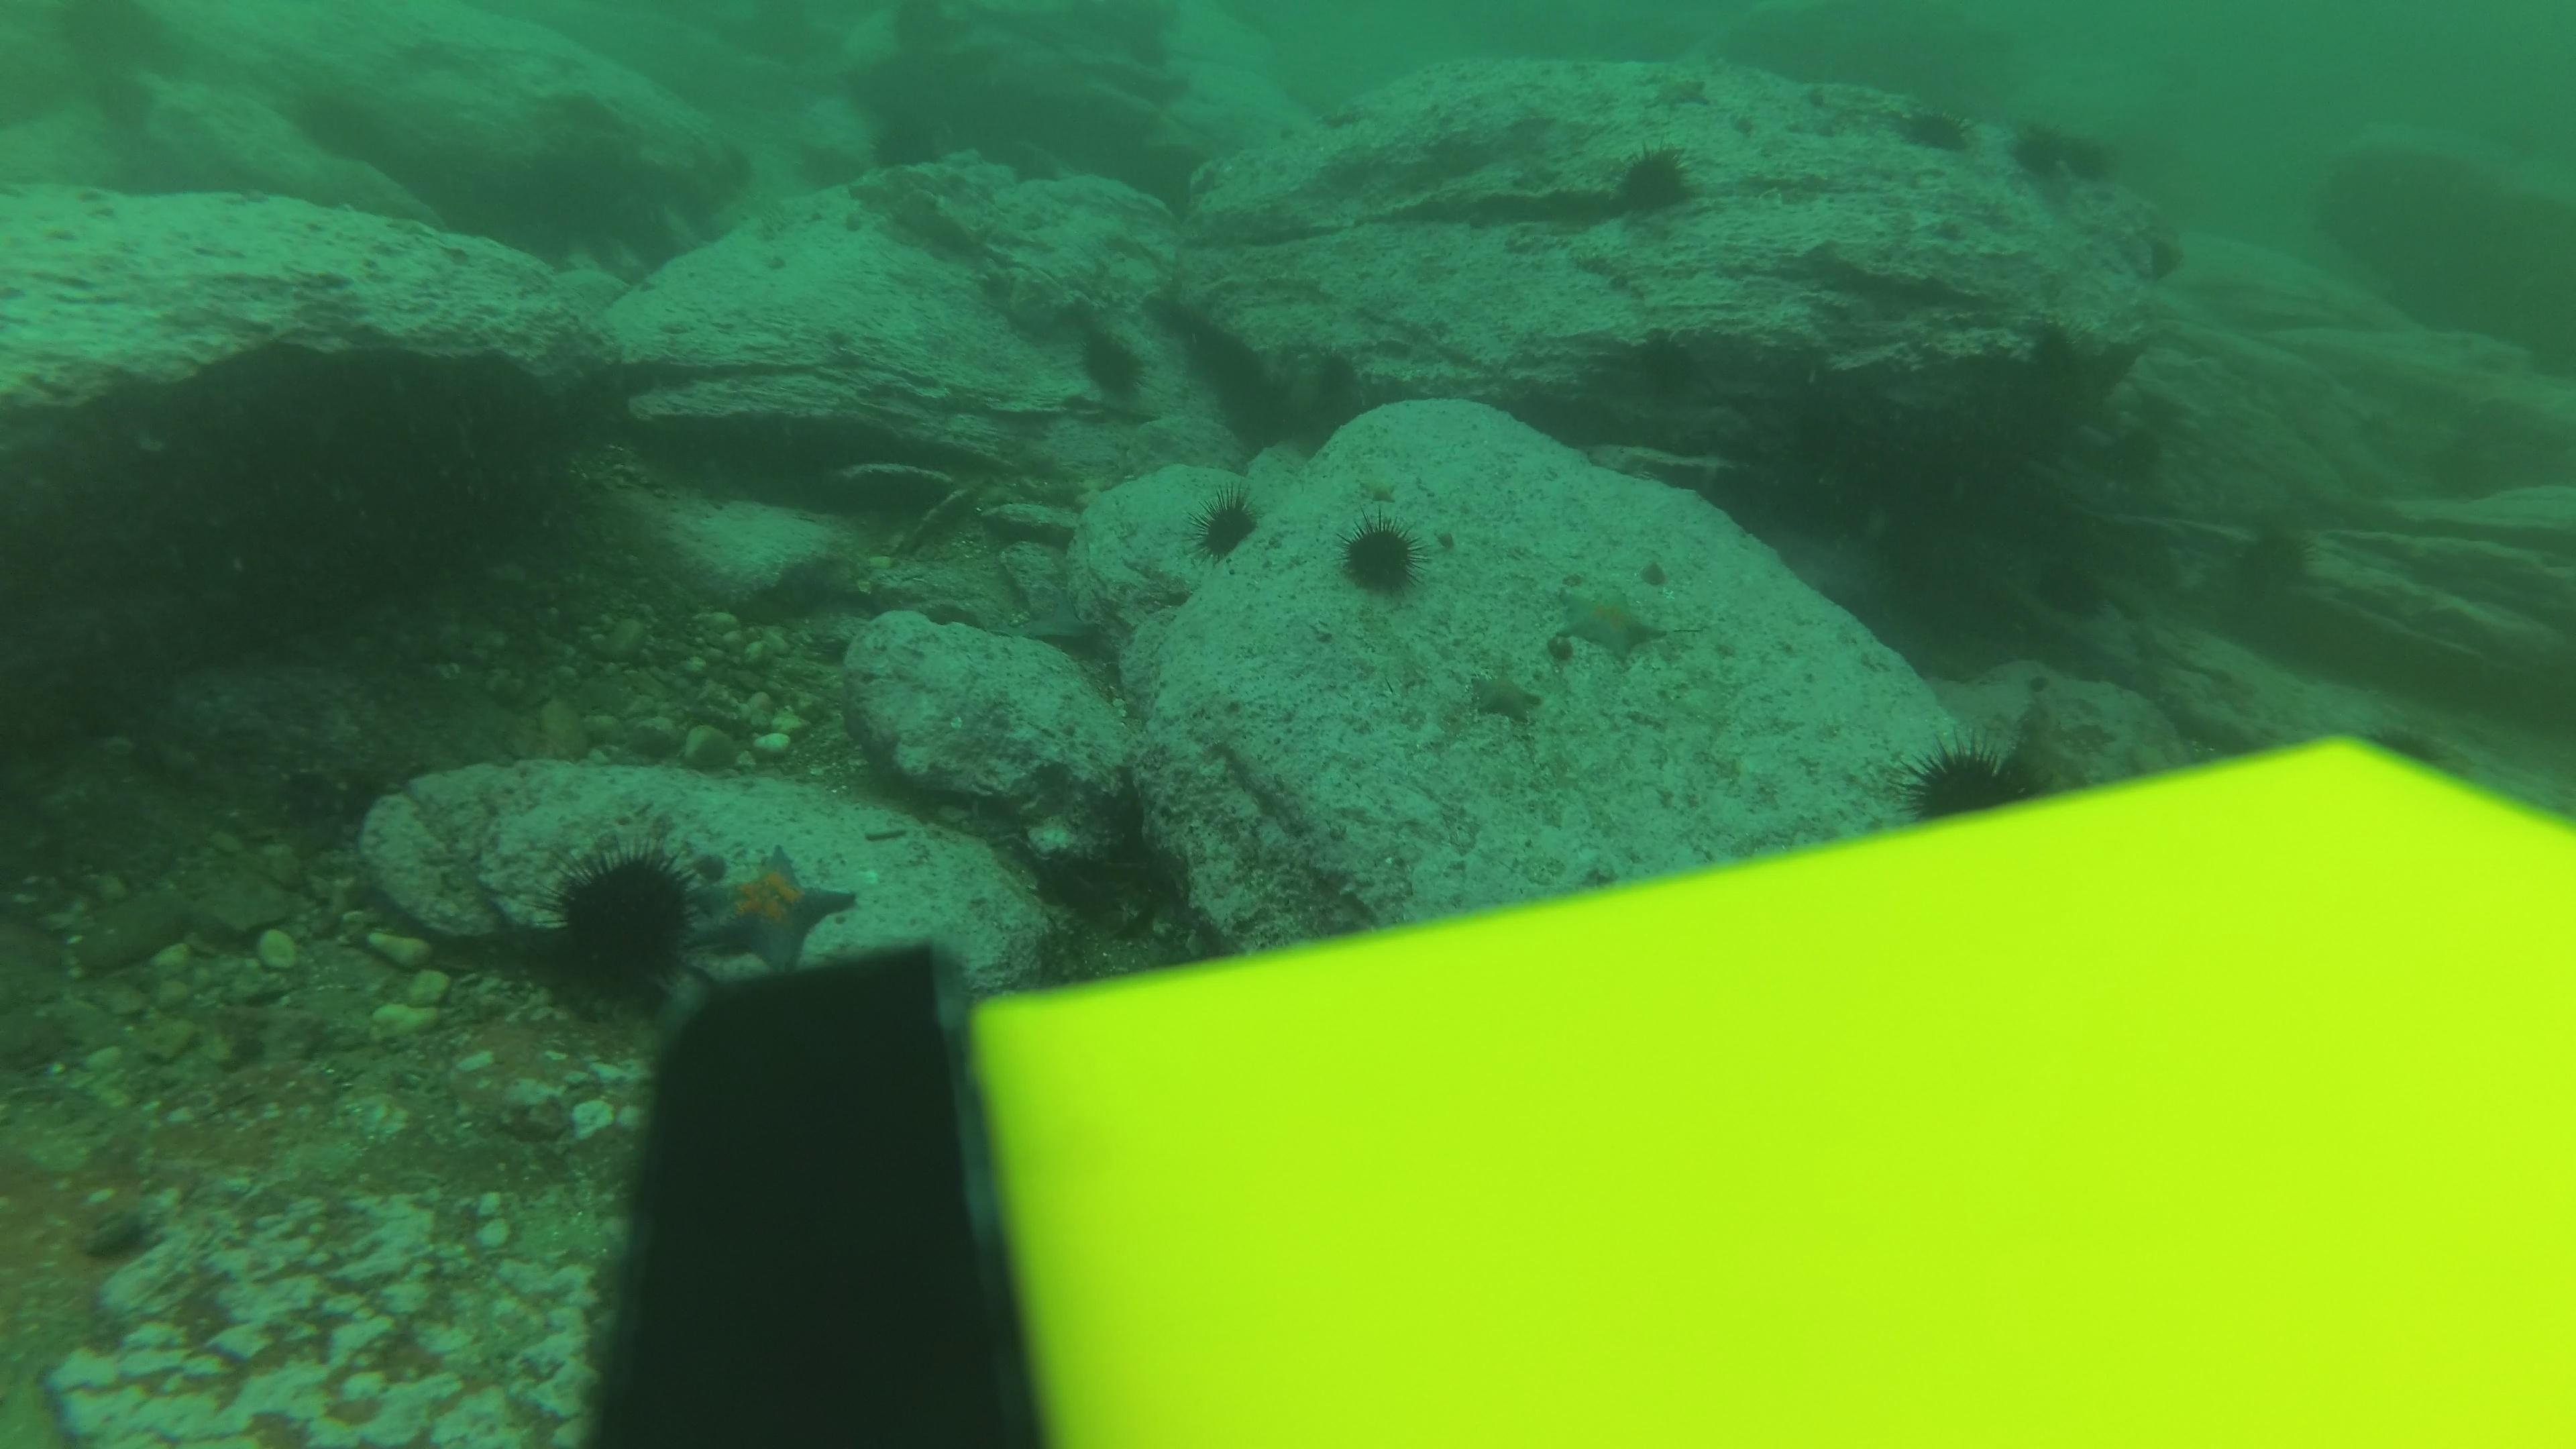echinus: (541, 837, 706, 1008), (1895, 731, 2052, 826), (1330, 511, 1433, 605), (1601, 138, 1706, 226), (1069, 324, 1157, 409), (1184, 487, 1265, 566), (1891, 97, 1976, 157), (2003, 111, 2070, 175), (2249, 525, 2316, 589), (2097, 421, 2164, 485), (2061, 129, 2128, 193)
starfish: (683, 840, 865, 975), (1548, 582, 1674, 662), (1465, 667, 1548, 729), (1642, 67, 1716, 115)
